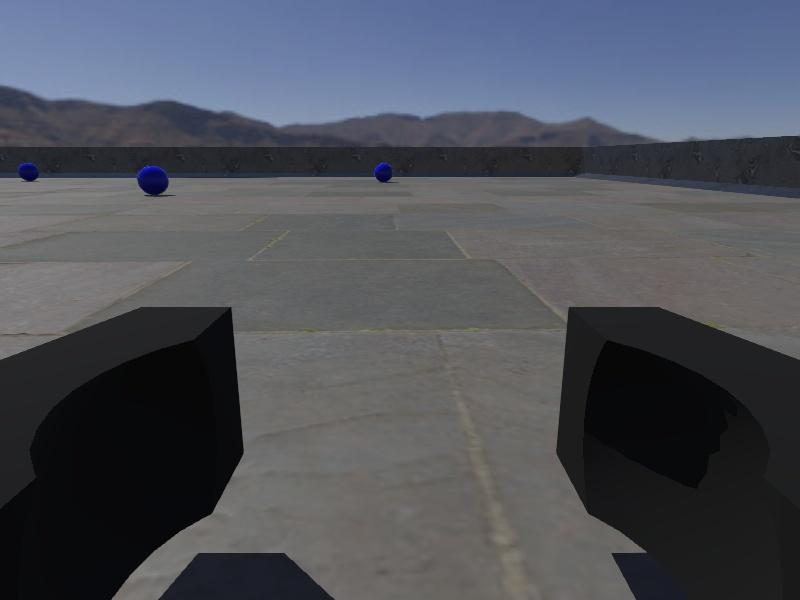blue ball: (136, 164, 170, 195), (373, 161, 395, 184), (16, 162, 40, 182)
